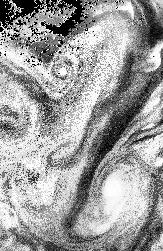CE: (90, 153, 153, 230), (49, 58, 78, 84)
